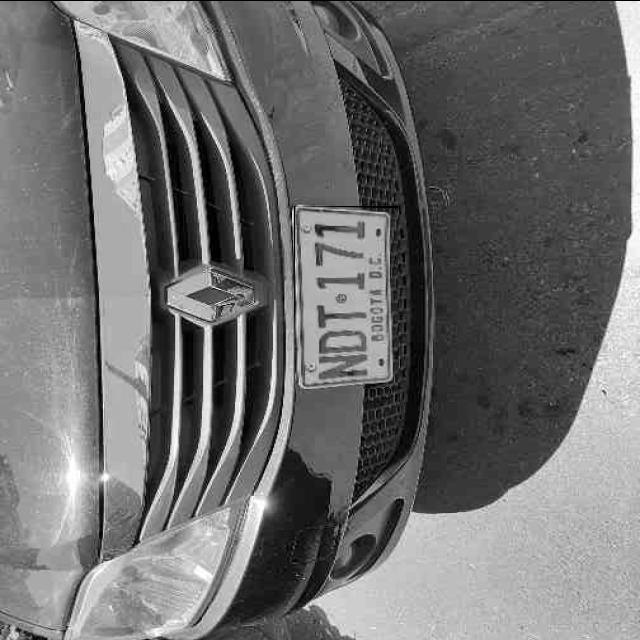plate: (296, 205, 398, 387)
